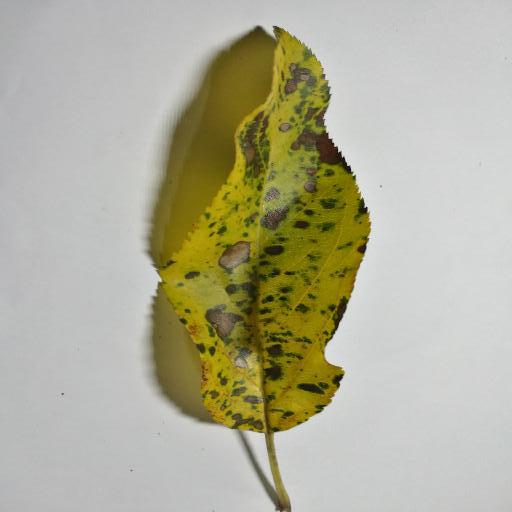Brown_Spot: (296, 132, 347, 169), (214, 241, 250, 267), (246, 122, 259, 186), (206, 308, 232, 336), (282, 70, 295, 95), (266, 205, 282, 225), (278, 120, 290, 135), (302, 69, 311, 80), (269, 248, 289, 251)
